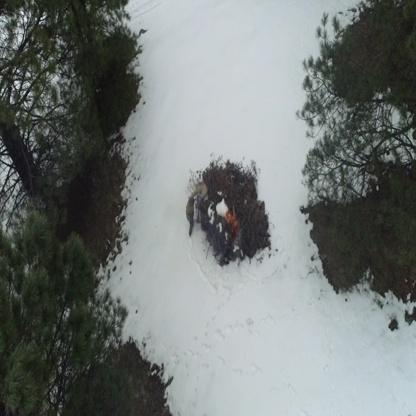Fire: (226, 210, 238, 232), (203, 183, 208, 190)
